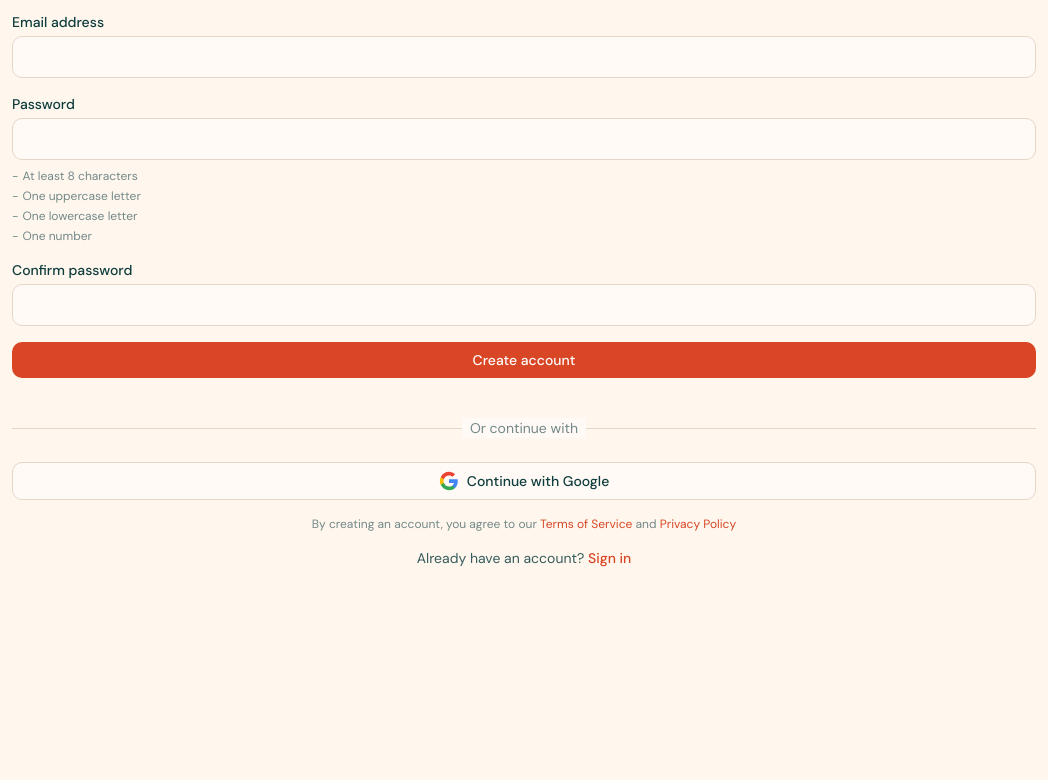
components/auth/SignupForm › shows validation error for empty email
The width and height of the screenshot is (1048, 780).
Type "Password1" into the password field labelled "Password". click: (524, 139)
box: [12,118,1036,160]
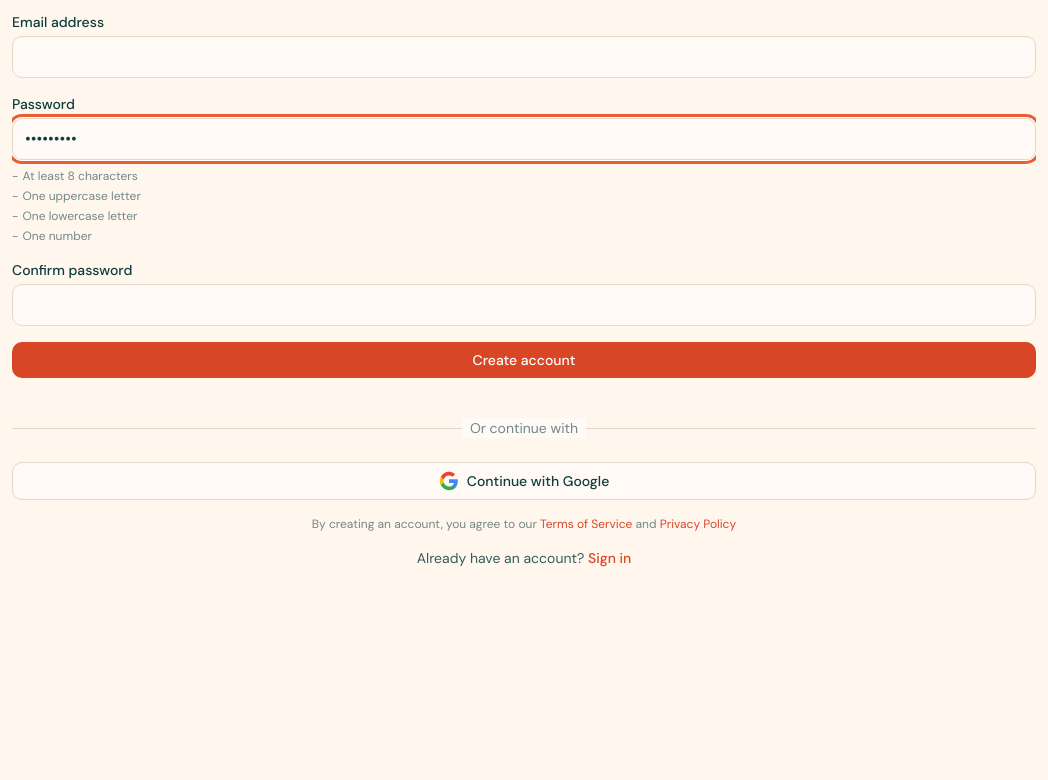
Type "Password1" into the password field labelled "Confirm password". click: (524, 305)
box: [12,284,1036,326]
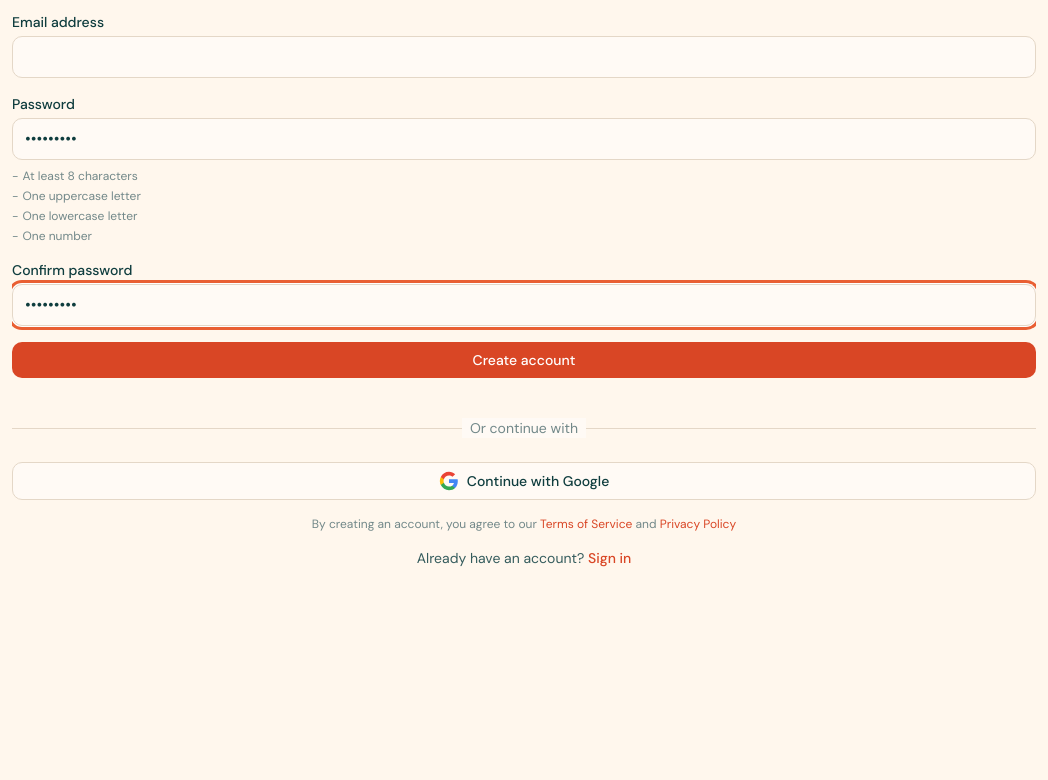
Click the button "Create account". click: (524, 360)
box: [12,342,1036,378]
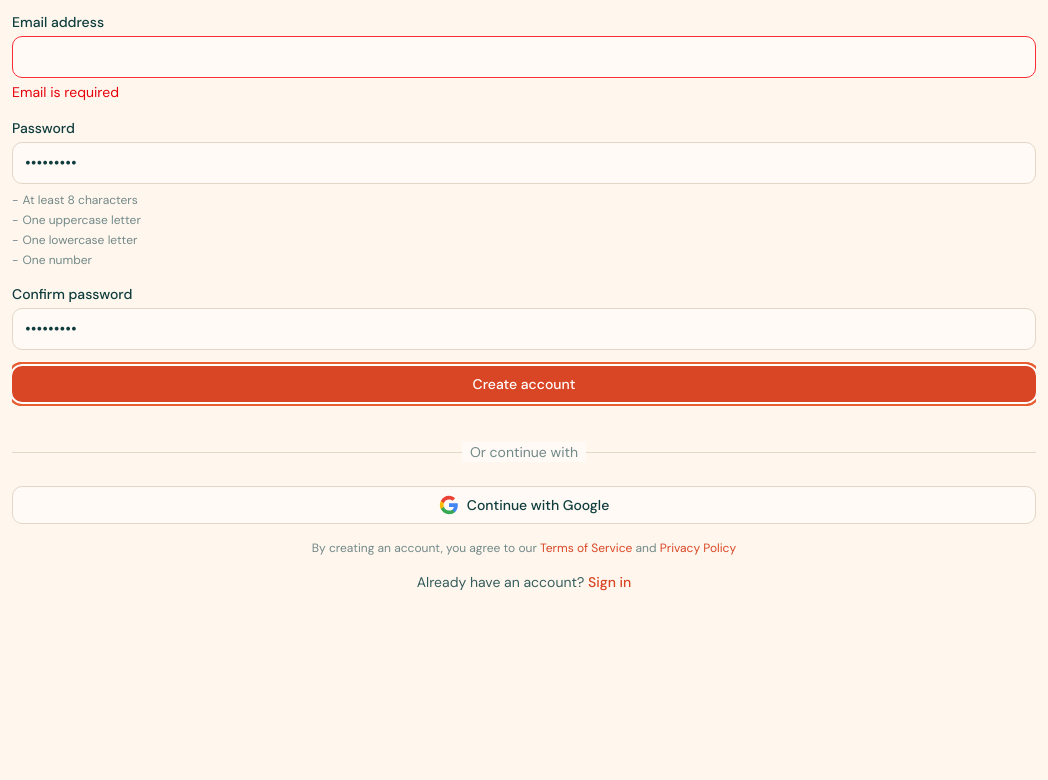
Check: the text "Email is required" is shown, box [12,83,119,101]
